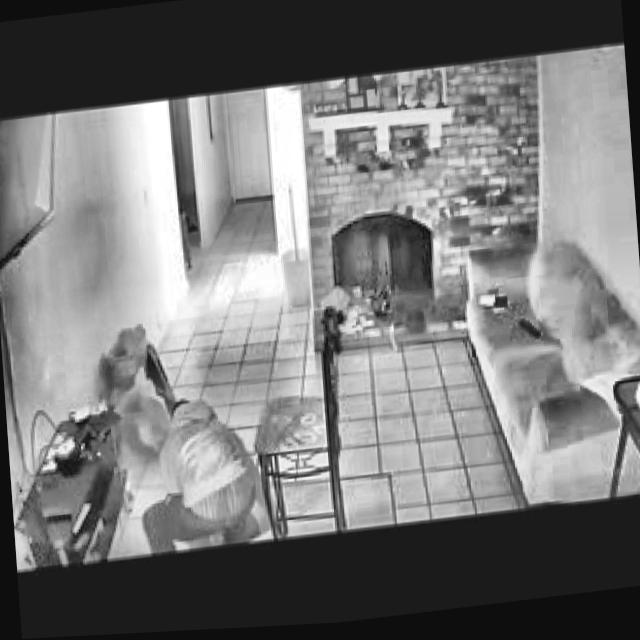burglary: (17, 378, 270, 569)
